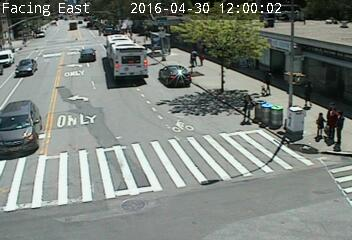neg: (167, 105, 187, 131), (295, 136, 313, 160), (164, 61, 182, 85), (12, 106, 30, 129), (120, 63, 136, 85), (224, 162, 239, 182), (66, 14, 80, 33), (232, 50, 246, 68), (79, 46, 92, 64), (64, 105, 77, 123), (333, 171, 345, 188), (58, 58, 69, 73), (21, 29, 32, 44), (126, 23, 137, 37), (273, 141, 284, 155), (12, 57, 23, 71), (140, 27, 148, 38)
pos: (323, 105, 346, 136), (329, 110, 351, 142), (237, 92, 259, 120), (256, 66, 276, 93), (299, 80, 319, 107), (311, 110, 331, 137), (185, 46, 201, 68), (195, 49, 208, 66)
